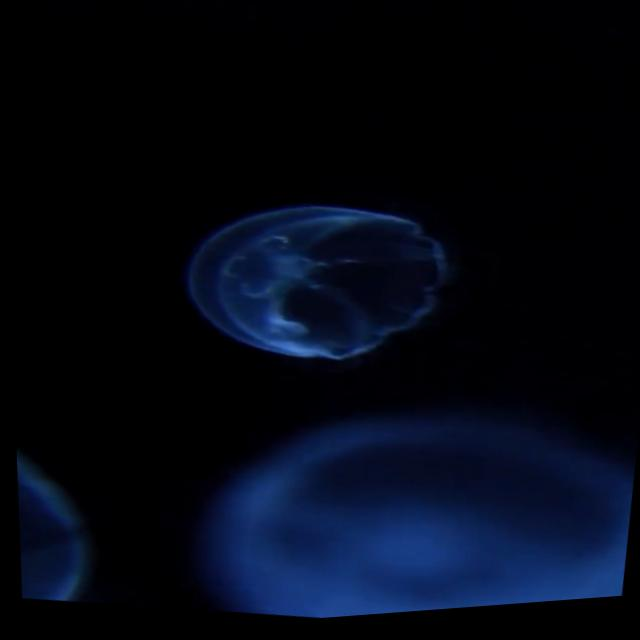Moon-jellyfish: (222, 416, 630, 623), (178, 199, 457, 367), (13, 444, 84, 602)
